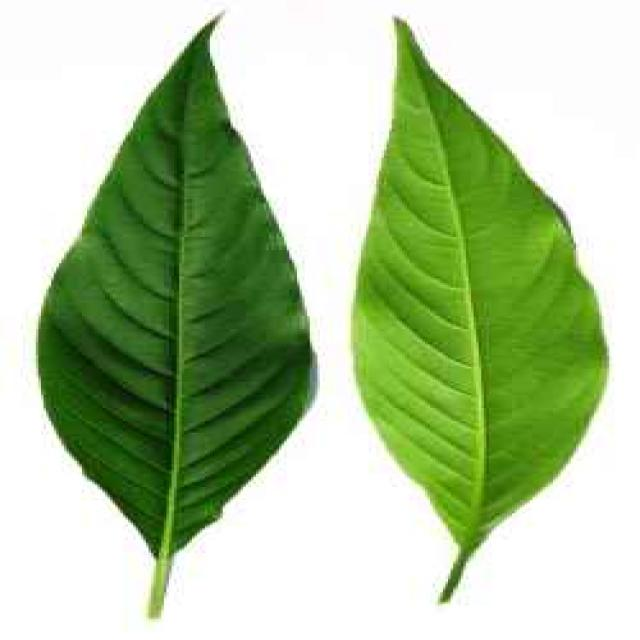Malabar Nut: (58, 34, 611, 590)
